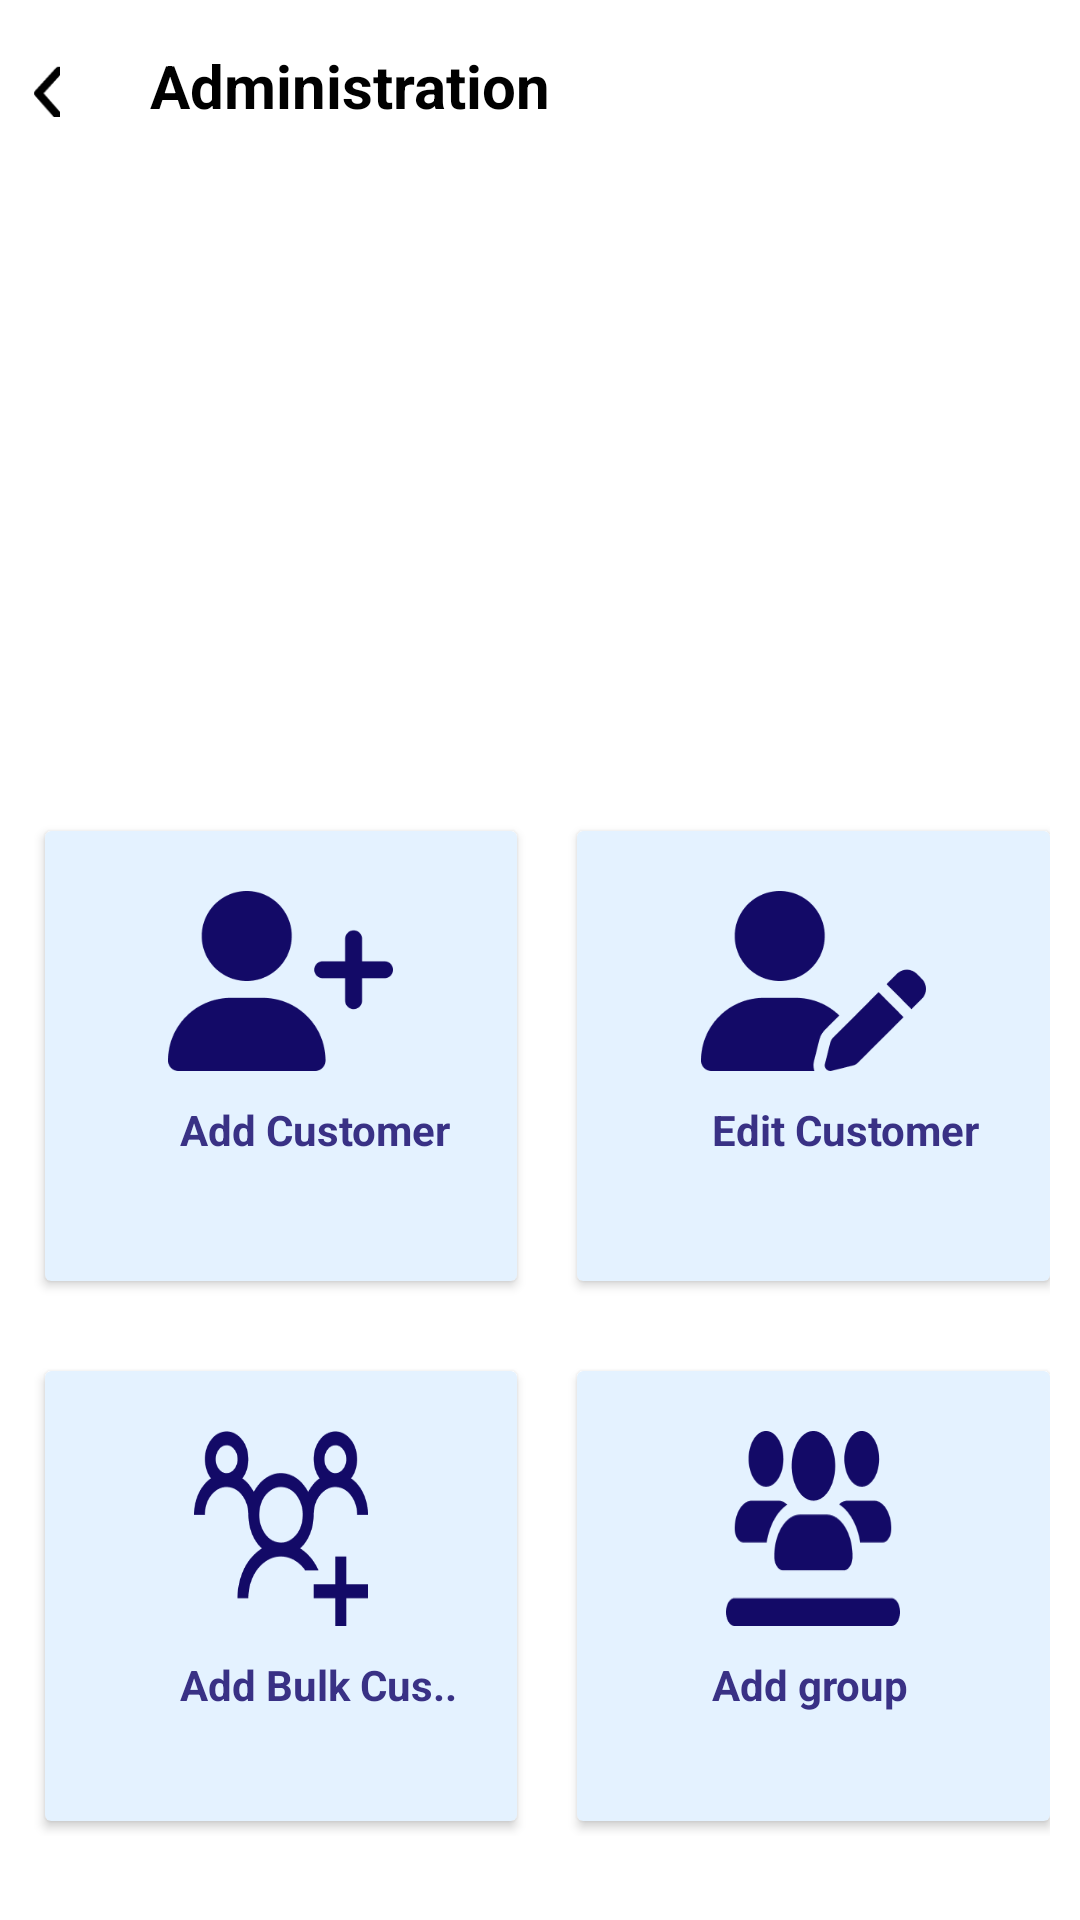

Icons on this 1080 × 1920 Android screen, each with the point to tap as point (x, y):
arrowback: point (47, 91)
iconeprofile: point (280, 981)
